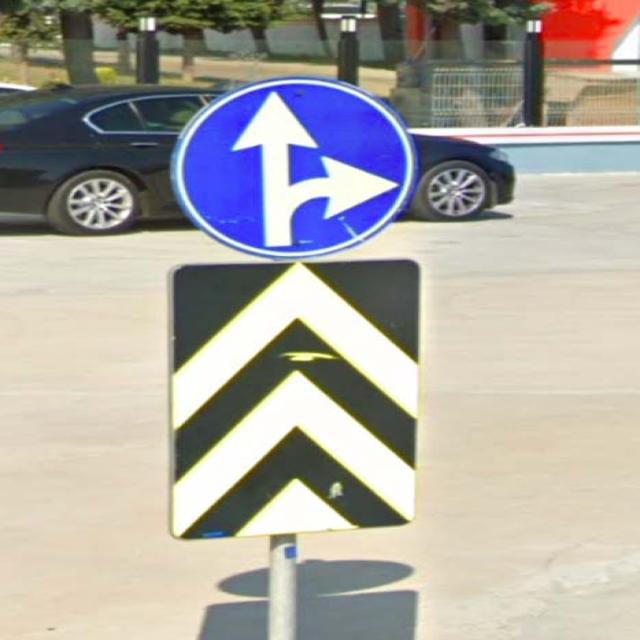ilerisag: (170, 76, 414, 255)
